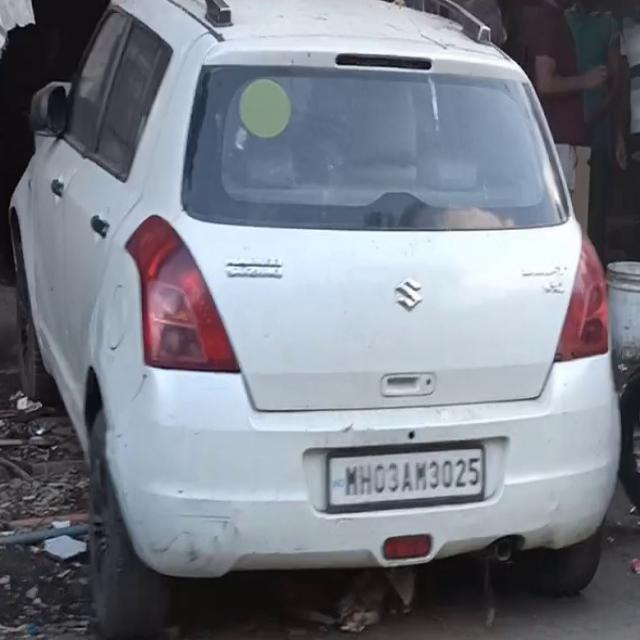Plate: (329, 449, 484, 503)
